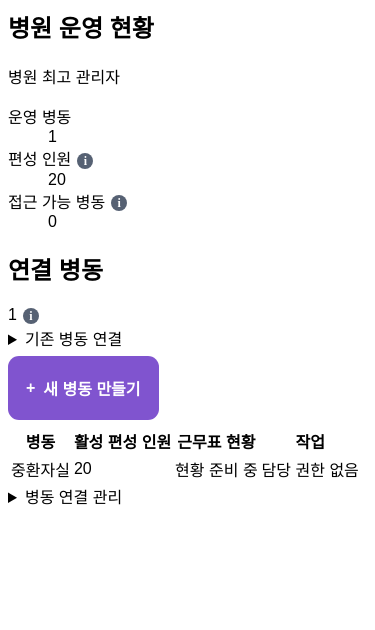
it: hospital owner disconnection › does not claim completion when an older server still returns a pending response
Step 1. Click the heading "병동 연결 관리" → (74, 498), box [25,489,122,506]
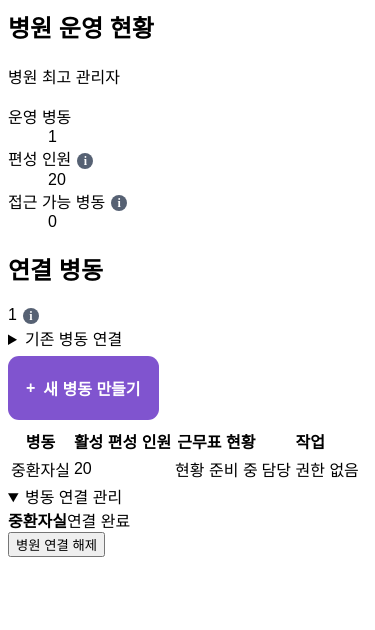
Step 2. Click the button "병원 연결 해제" → (56, 545), box [8,532,105,557]
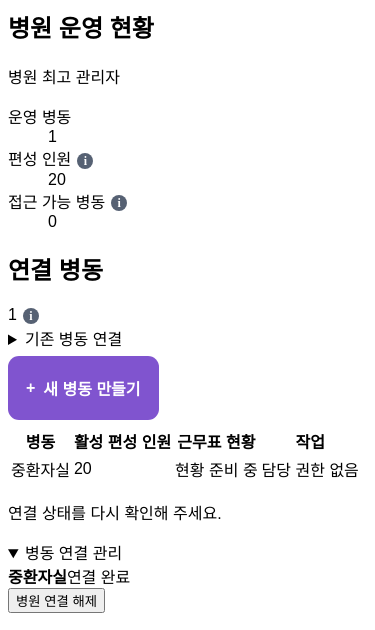
Expected: the message reads "연결 상태를 다시 확인해 주세요.", [8,505,222,522]
